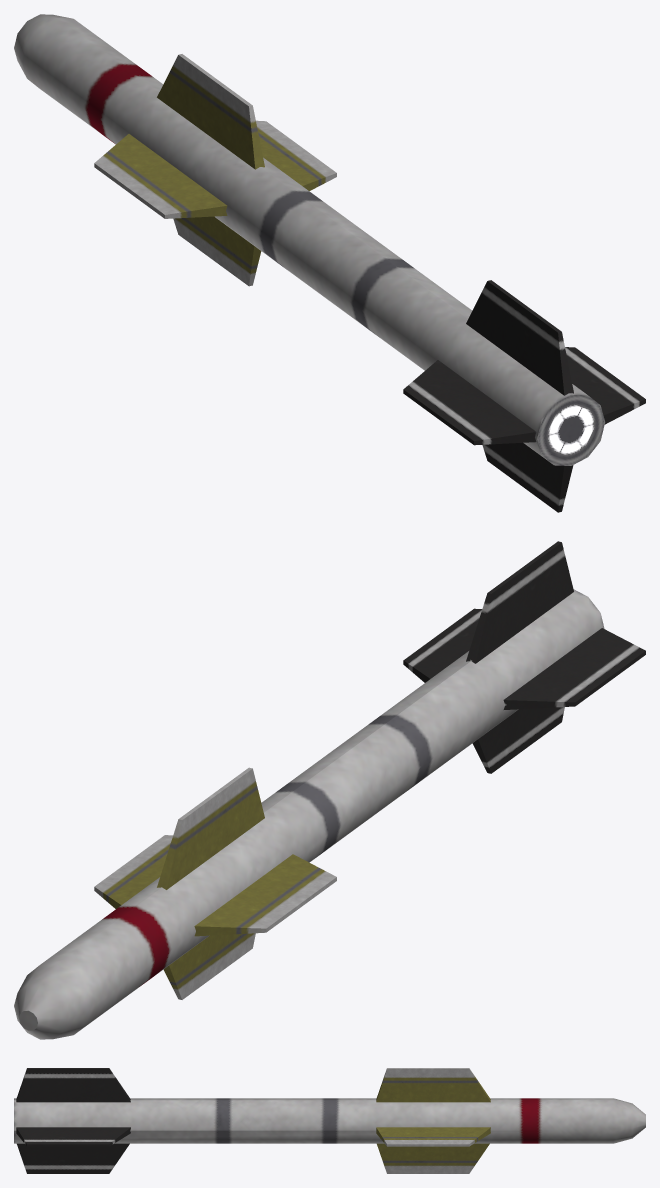
The model's file is missile_s_1.fbx.
3 renders of one model, top to bottom at view 1: azimuth 30°, elevation 25°; view 2: azimuth 150°, elevation 25°; view 3: azimuth 270°, elevation 25°, orthographic. The views are drawn at different scales.
Parts seen in each view (by area): view 1: missile_s_1; view 2: missile_s_1; view 3: missile_s_1.
Boxes of the visible parts, x1,y1,x2,y2 form: missile_s_1: (14,14,645,512); missile_s_1: (14,541,645,1039); missile_s_1: (14,1068,645,1173).
Size of the model in its own units: 1.06 by 1.06 by 5.79.
